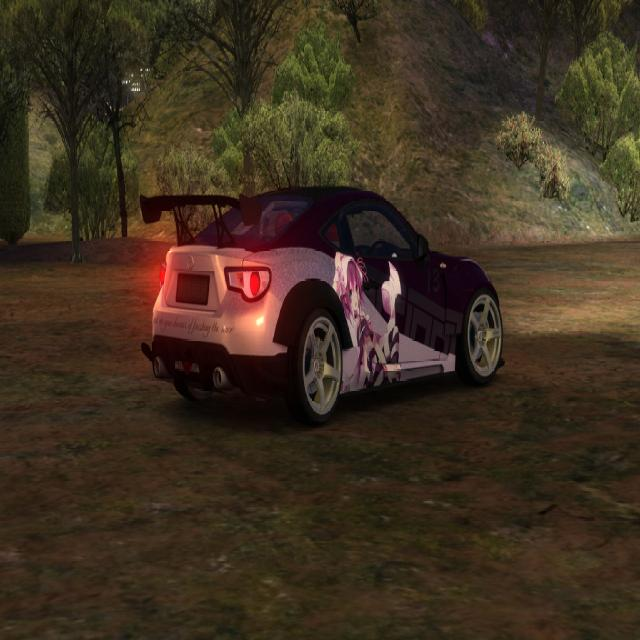car: (138, 160, 505, 426)
